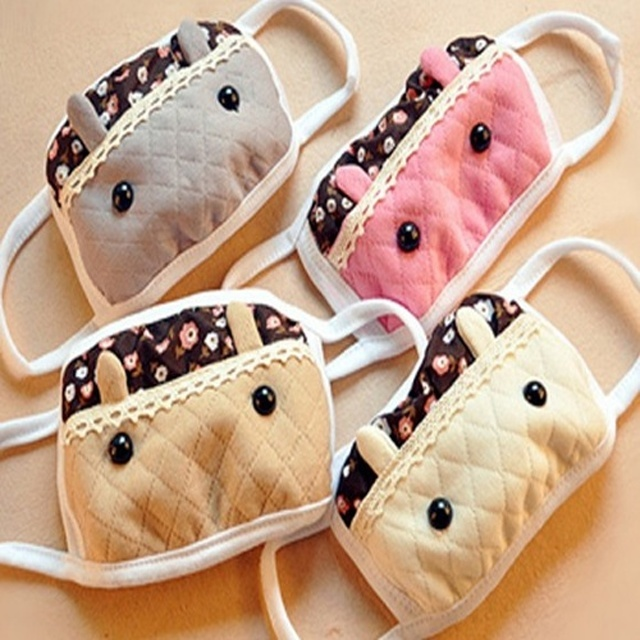mask: (260, 235, 640, 640), (224, 8, 623, 381), (1, 1, 361, 382), (1, 285, 424, 592)
